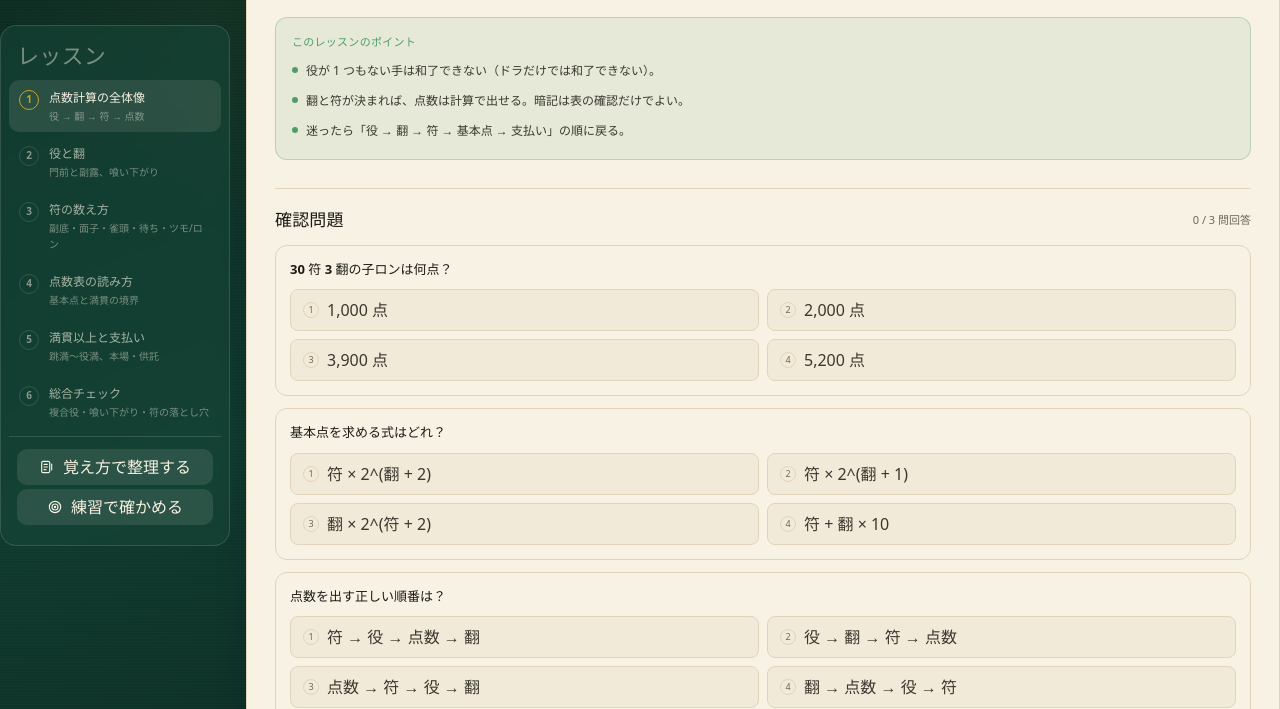
学習 › 確認問題の回答後、見えていなければフィードバックへスクロールする
(page scrolled)
Click the button "3 3,900 点": (358, 360) x1=290 y1=339 x2=759 y2=381
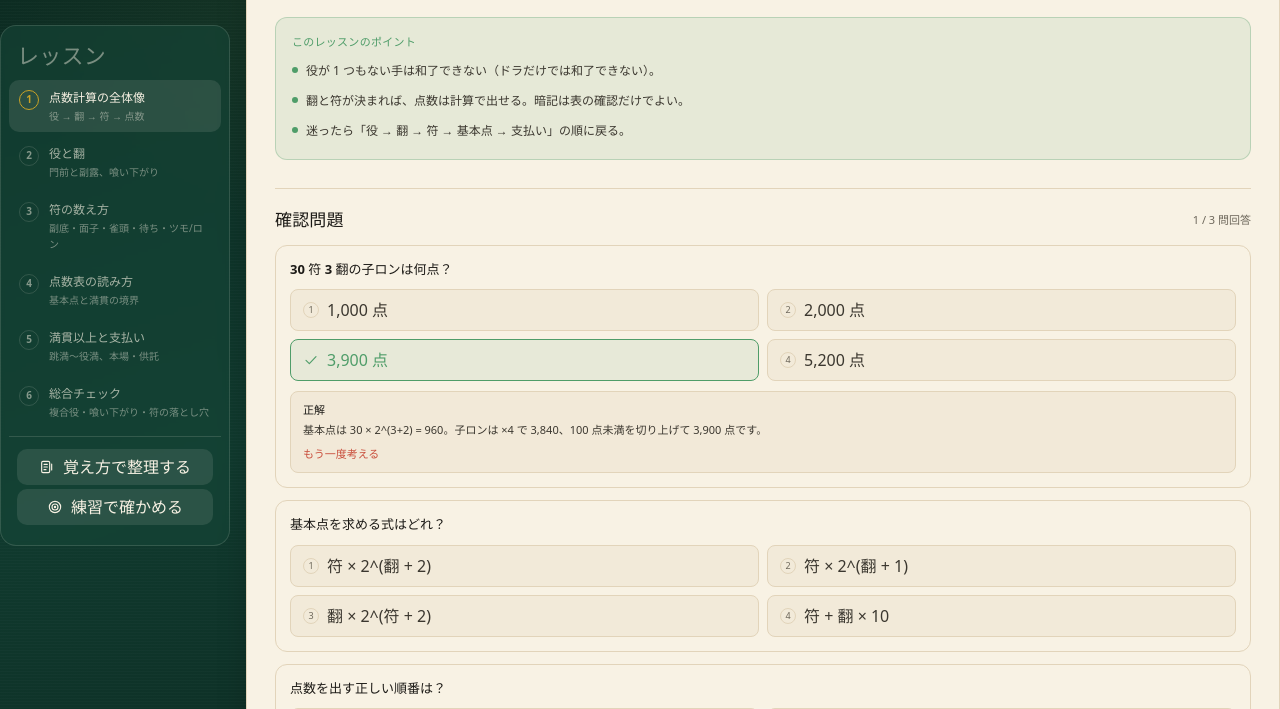
Result: the element with test id "quiz-feedback" is shown at x1=290 y1=391 x2=1236 y2=473
